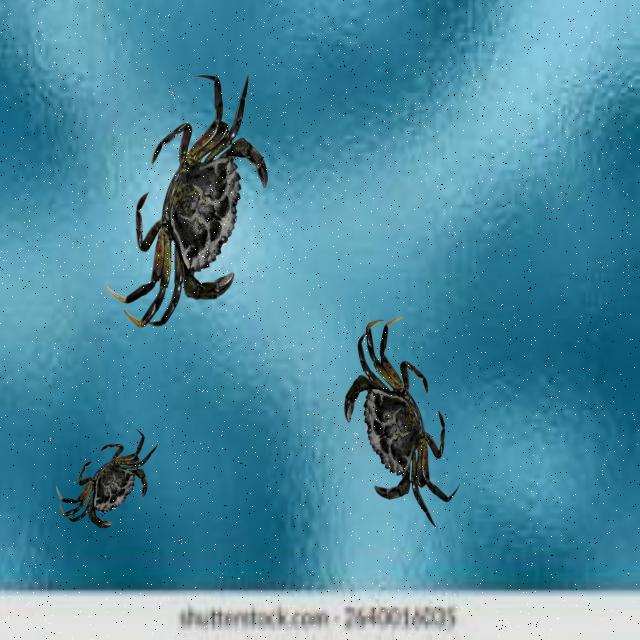European_Green_Crab: (97, 39, 301, 366), (321, 303, 476, 553), (50, 414, 174, 552)
